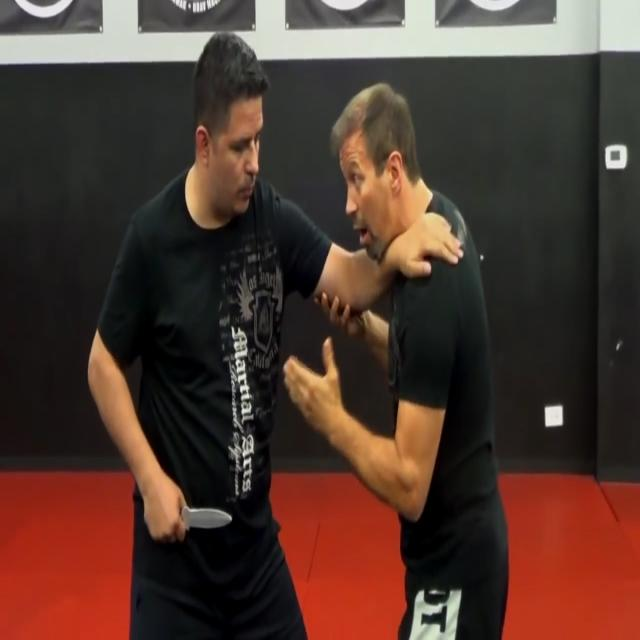knife: (182, 503, 238, 537)
